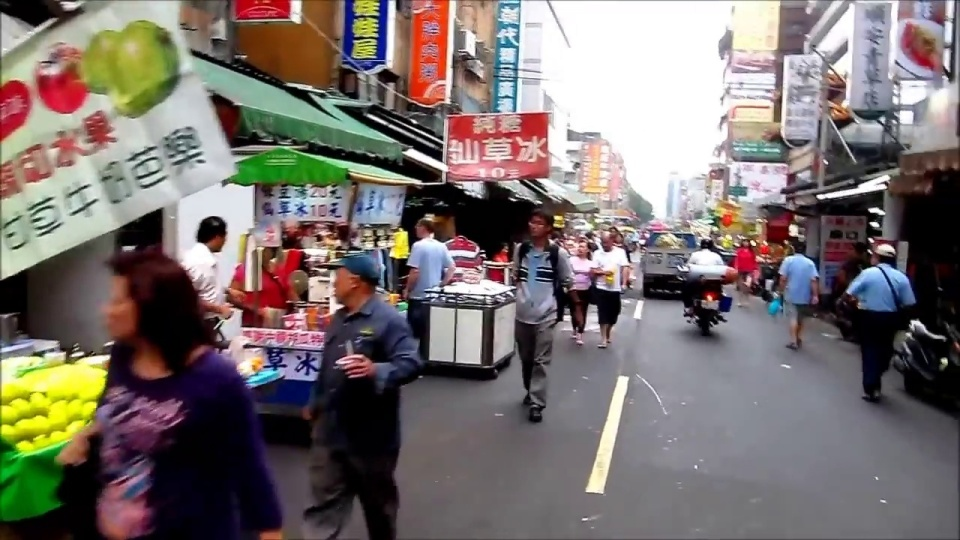person_head: (96, 252, 201, 346), (330, 253, 380, 309), (197, 217, 228, 252), (525, 213, 554, 237), (251, 241, 277, 263), (870, 245, 896, 267), (414, 219, 433, 238), (599, 232, 613, 249), (789, 242, 806, 256), (576, 240, 589, 257), (698, 239, 714, 251), (498, 243, 508, 252), (741, 239, 751, 248)
person_vbox: (54, 252, 284, 540), (303, 251, 426, 540), (510, 210, 585, 426), (837, 243, 915, 404), (399, 216, 458, 377), (178, 216, 245, 353), (227, 239, 299, 330), (775, 240, 821, 351), (680, 236, 734, 327), (589, 231, 630, 349), (562, 240, 600, 346), (733, 237, 761, 309), (487, 241, 511, 282)
